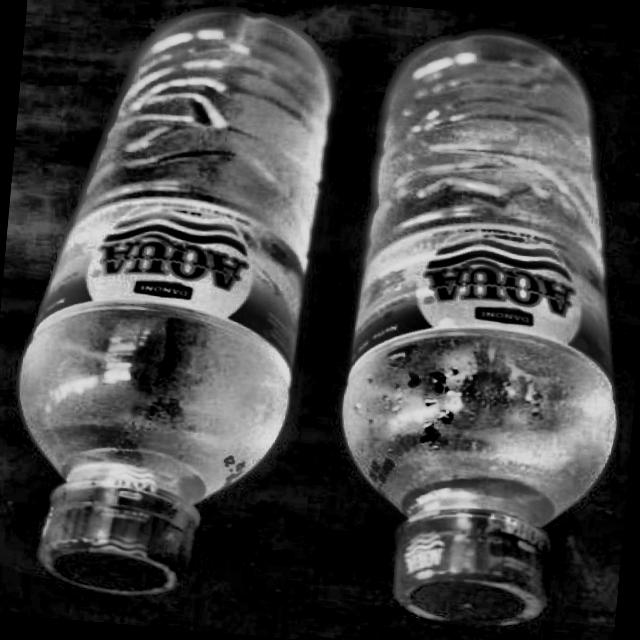waterbottle: (0, 0, 344, 604), (322, 20, 640, 633)
